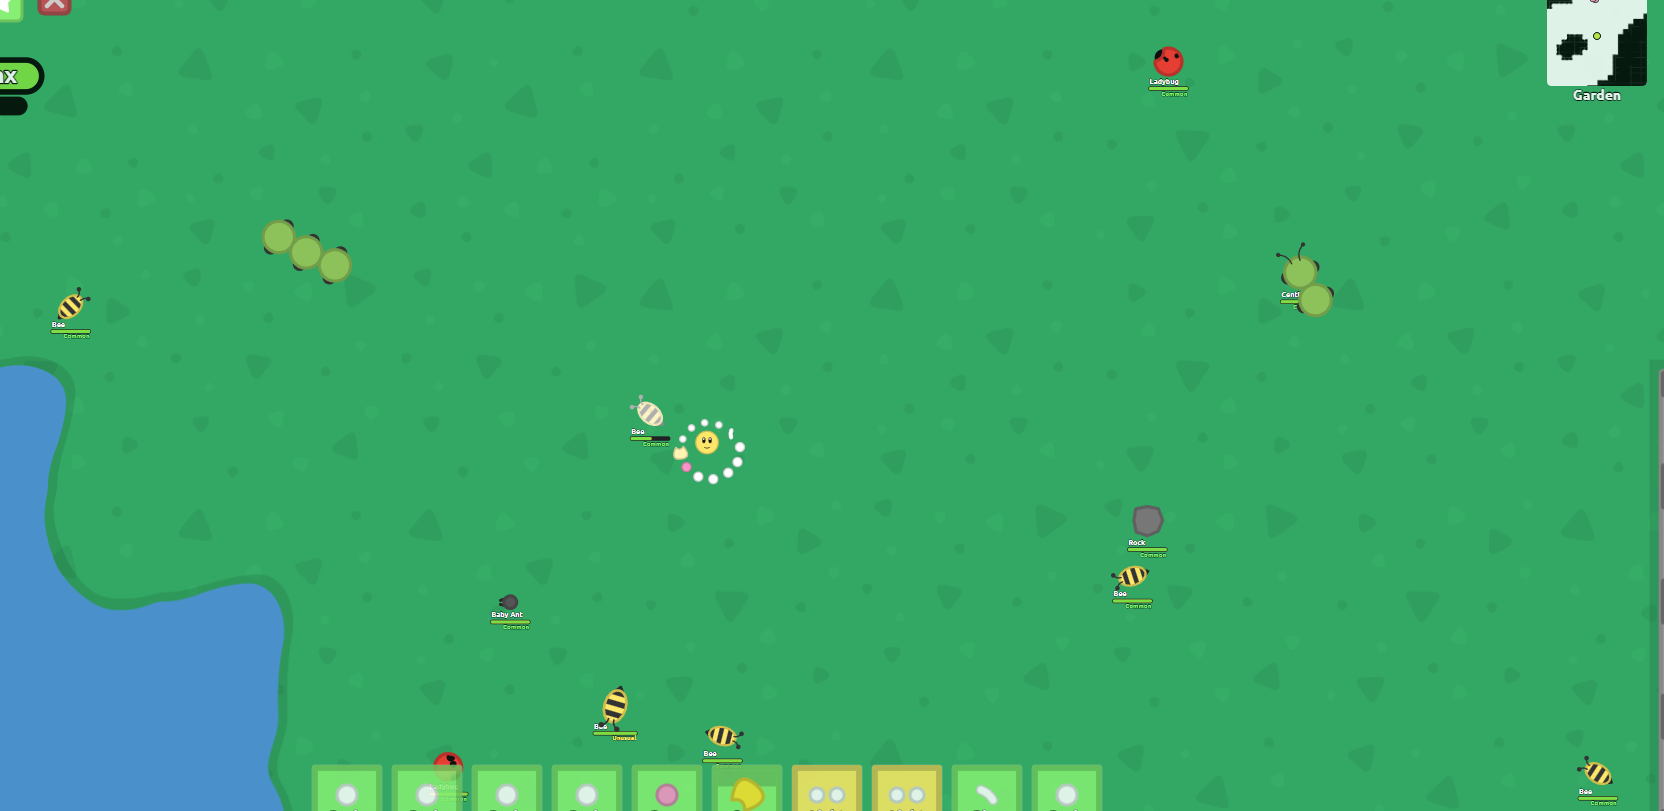Baby Ant: (495, 593, 520, 613)
Bee: (600, 686, 628, 726), (55, 293, 86, 324), (703, 724, 740, 749), (1581, 761, 1615, 788), (634, 400, 665, 429), (1114, 566, 1151, 590)
Centipede: (290, 233, 324, 273), (319, 247, 352, 287), (262, 219, 297, 256), (1280, 257, 1321, 288), (1295, 287, 1336, 318)
Ladybug: (432, 752, 466, 785), (1151, 46, 1185, 78)
Rock: (1132, 504, 1166, 538)
